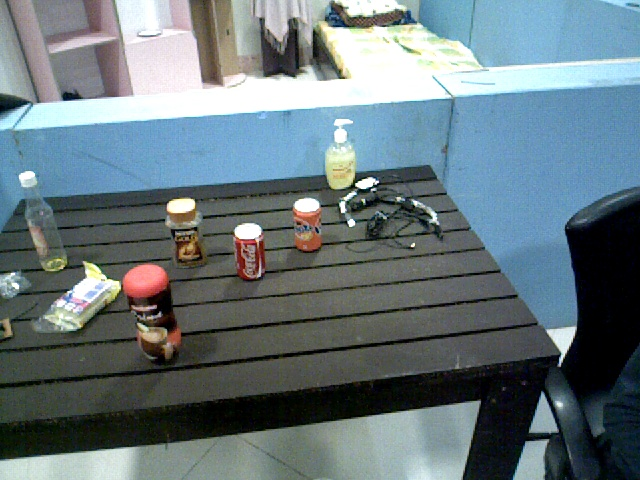coca: (232, 222, 266, 282)
coffee: (166, 198, 209, 271)
cream: (124, 264, 184, 364)
fanta: (294, 198, 322, 255)
